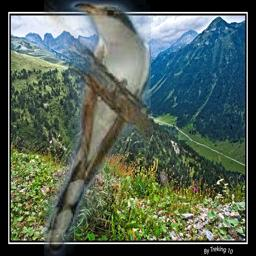Cuckoo: (44, 0, 151, 256)
